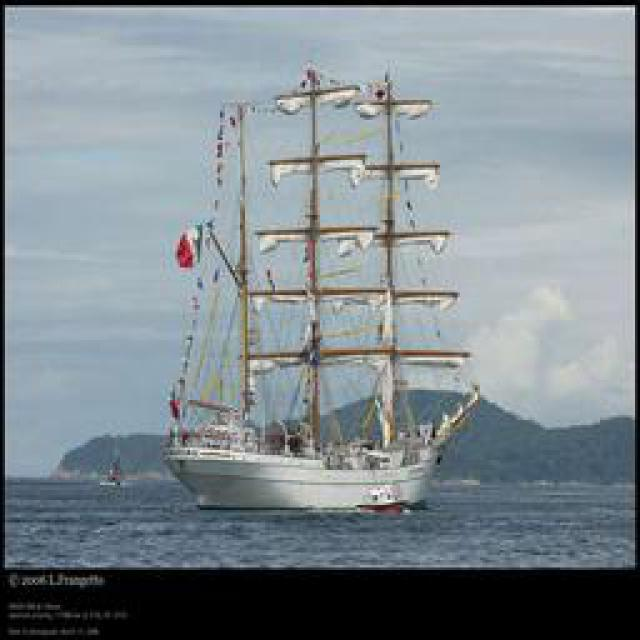Ship: (165, 75, 478, 520)
